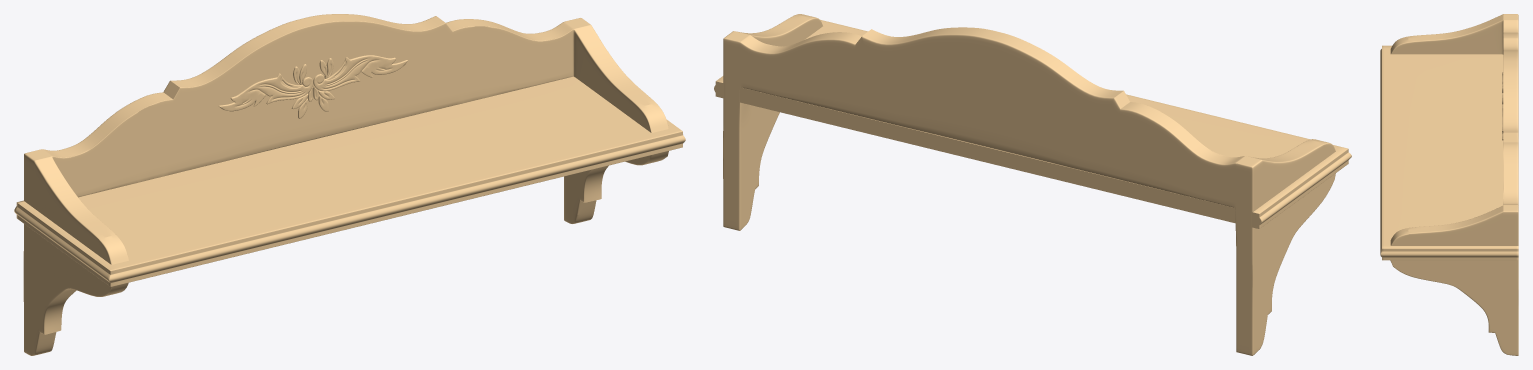
Rendered from CHA10060_Corona_fbx.fbx.
The picture shows the model from 3 angles, left to right: view 1: azimuth 30°, elevation 25°; view 2: azimuth 150°, elevation 25°; view 3: azimuth 270°, elevation 25°; orthographic projection. The views are drawn at different scales.
Parts seen in each view (by area): view 1: CHA10060-003, CHA10060-001, CHA10060-002; view 2: CHA10060-003, CHA10060-001; view 3: CHA10060-001, CHA10060-003, CHA10060-002.
Part boxes in pixels (x1=…): CHA10060-003: x1=23, y1=14, x2=668, y2=355; CHA10060-001: x1=14, y1=76, x2=685, y2=286; CHA10060-002: x1=218, y1=55, x2=407, y2=118; CHA10060-003: x1=723, y1=14, x2=1335, y2=355; CHA10060-001: x1=714, y1=19, x2=1351, y2=228; CHA10060-001: x1=1380, y1=45, x2=1518, y2=260; CHA10060-003: x1=1390, y1=14, x2=1518, y2=355; CHA10060-002: x1=1502, y1=72, x2=1503, y2=140.
Bounding box in the file's own units: 700 × 309 × 200.
